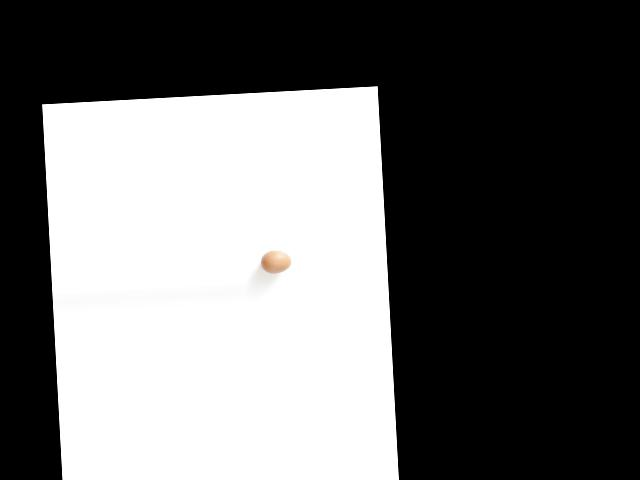egg: (260, 249, 291, 273)
